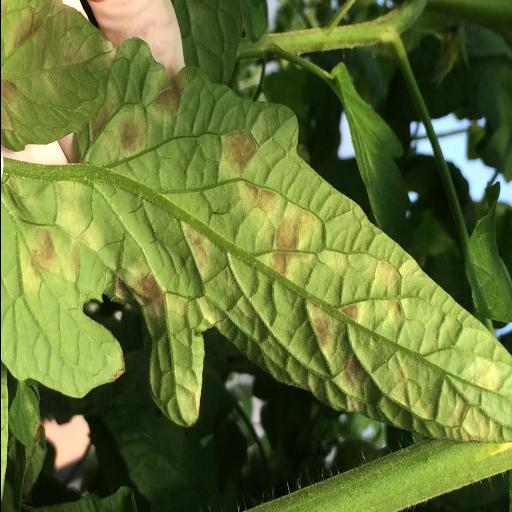disease_tomato: (0, 0, 512, 441)
